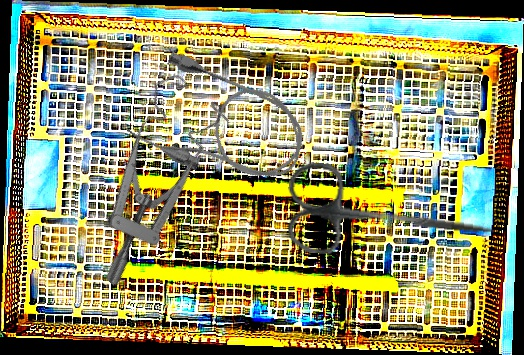Cannula: (122, 45, 319, 205)
Iris Scissors: (281, 160, 504, 272)
Speculum: (32, 62, 261, 289)
